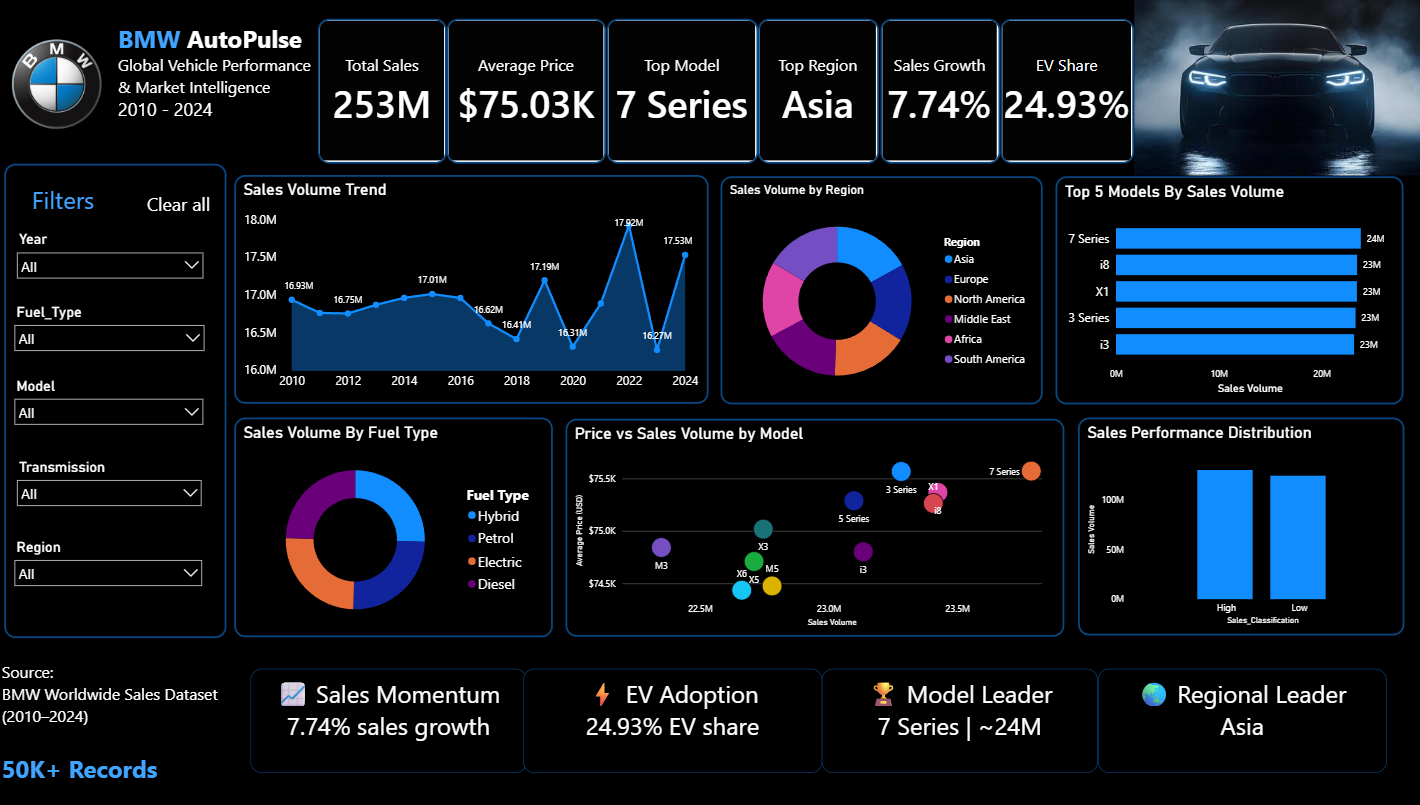

What the dashboard file says about the page in this screenshot:
{"tool":"powerbi","page":{"name":"Page 1","canvas":[1900,1080],"ordinal":0},"visuals":[{"type":"shape","box":[9,219,296.8,633.4],"z":0,"group":"g3"},{"type":"lineChart","title":"Sales Volume Trend","fields":{"Category":["BMW sales data (2010-2024).Year"],"Y":["Sum(BMW sales data (2010-2024).Sales_Volume)"]},"box":[315.7,234.2,633.5,305.5],"z":0},{"type":"donutChart","title":"Sales Volume by Region","fields":{"Category":["BMW sales data (2010-2024).Region"],"Y":["Sum(BMW sales data (2010-2024).Sales_Volume)"]},"box":[965,235,430,305],"z":1000},{"type":"textbox","box":[41.5,240,148.4,69.4],"z":1000,"group":"g3"},{"type":"clusteredBarChart","title":"Top 5 Models By Sales Volume","fields":{"Category":["BMW sales data (2010-2024).Model"],"Y":["Sum(BMW sales data (2010-2024).Sales_Volume)"]},"box":[1412.5,235,465,305],"z":2000},{"type":"group","id":"g1","title":"Group 2","box":[11.6,304.3,273.8,508.3],"z":3000,"group":"g3"},{"type":"donutChart","title":"Sales Volume By Fuel Type","fields":{"Y":["Sum(BMW sales data (2010-2024).Sales_Volume)"],"Category":["BMW sales data (2010-2024).Fuel_Type"]},"box":[315.7,558.1,425.7,293.3],"z":3000},{"type":"scatterChart","title":"Price vs Sales Volume by Model","fields":{"X":["Sum(BMW sales data (2010-2024).Sales_Volume)"],"Y":["Avg(BMW sales data (2010-2024).Price_USD)"],"Category":["BMW sales data (2010-2024).Model"],"Series":["BMW sales data (2010-2024).Model"]},"box":[757.7,560.1,666.1,291.3],"z":4000},{"type":"clusteredColumnChart","title":"Sales Performance Distribution","fields":{"Category":["BMW sales data (2010-2024).Sales_Classification"],"Y":["Sum(BMW sales data (2010-2024).Sales_Volume)"]},"box":[1442.1,558.1,435.9,291.3],"z":5000},{"type":"cardVisual","fields":{"Data":["BMW sales data (2010-2024).Total Sales"]},"box":[427.7,24.4,172.1,193.5],"z":6000,"group":"g2"},{"type":"textbox","box":[0,877.9,315.7,201.7],"z":6000},{"type":"textbox","box":[154.8,24.4,272.9,193.5],"z":7000},{"type":"cardVisual","fields":{"Data":["BMW sales data (2010-2024).Average Price"]},"box":[599.8,24.4,213,193.5],"z":7000,"group":"g2"},{"type":"group","id":"g2","title":"Group 1","box":[427.7,24.4,1089.7,193.5],"z":8000},{"type":"cardVisual","fields":{"Data":["BMW sales data (2010-2024).top model"]},"box":[812.8,24.4,202.8,193.5],"z":8000,"group":"g2"},{"type":"cardVisual","fields":{"Data":["BMW sales data (2010-2024).Top Region"]},"box":[1015.6,24.4,161.8,193.5],"z":9000,"group":"g2"},{"type":"group","id":"g3","title":"Group 3","box":[9,219,296.8,633.4],"z":9000},{"type":"actionButton","box":[164.2,240.8,123.6,63.5],"z":9001,"group":"g3"},{"type":"image","box":[0,0,153.8,219],"z":10000},{"type":"cardVisual","fields":{"Data":["BMW sales data (2010-2024).Sales Growth %"]},"box":[1179.5,24.4,159.8,193.5],"z":10000,"group":"g2"},{"type":"image","box":[1517.5,0,382.9,234.2],"z":11000},{"type":"cardVisual","fields":{"Data":["BMW sales data (2010-2024).EV Share"]},"box":[1339.2,24.4,178.2,193.5],"z":11000,"group":"g2"},{"type":"slicer","fields":{"Values":["BMW sales data (2010-2024).Transmission"]},"box":[15,607.8,267.2,96.8],"z":12000},{"type":"textbox","box":[336.6,894.4,369.1,138.9],"z":12000,"group":"g4"},{"type":"group","id":"g4","title":"Group 4","box":[336.6,894,1518.3,139.3],"z":13000},{"type":"textbox","box":[700.5,894.4,399.9,138.9],"z":13000,"group":"g4"},{"type":"textbox","box":[1100.4,894,369.1,138.9],"z":14000,"group":"g4"},{"type":"textbox","box":[1469.5,894,385.4,138.9],"z":15000,"group":"g4"},{"type":"slicer","fields":{"Values":["BMW sales data (2010-2024).Year"]},"box":[14.9,304.3,268.8,100.2],"z":16000,"group":"g1"},{"type":"slicer","fields":{"Values":["BMW sales data (2010-2024).Fuel_Type"]},"box":[11.6,400.7,273.8,95.2],"z":17000,"group":"g1"},{"type":"slicer","fields":{"Values":["BMW sales data (2010-2024).Model"]},"box":[12.1,499.2,272.2,105.2],"z":18000,"group":"g1"},{"type":"slicer","fields":{"Values":["BMW sales data (2010-2024).Region"]},"box":[12.4,715.4,271,97.2],"z":19000,"group":"g1"}]}

Visuals, with their boxes in screenshot pixels (x1, y1, x2, y2), scaled from the page's 1900x1080 canvas onto the 1420x805 screenshot:
shape: bbox=(7, 163, 229, 635)
"Sales Volume Trend" lineChart: bbox=(236, 175, 709, 402)
"Sales Volume by Region" donutChart: bbox=(721, 175, 1043, 402)
textbox: bbox=(31, 179, 142, 231)
"Top 5 Models By Sales Volume" clusteredBarChart: bbox=(1056, 175, 1403, 402)
"Group 2" group: bbox=(9, 227, 213, 606)
"Sales Volume By Fuel Type" donutChart: bbox=(236, 416, 554, 635)
"Price vs Sales Volume by Model" scatterChart: bbox=(566, 417, 1064, 635)
"Sales Performance Distribution" clusteredColumnChart: bbox=(1078, 416, 1404, 633)
cardVisual - BMW sales data (2010-2024).Total Sales: bbox=(320, 18, 448, 162)
textbox: bbox=(0, 654, 236, 804)
textbox: bbox=(116, 18, 320, 162)
cardVisual - BMW sales data (2010-2024).Average Price: bbox=(448, 18, 607, 162)
"Group 1" group: bbox=(320, 18, 1134, 162)
cardVisual - BMW sales data (2010-2024).top model: bbox=(607, 18, 759, 162)
cardVisual - BMW sales data (2010-2024).Top Region: bbox=(759, 18, 880, 162)
"Group 3" group: bbox=(7, 163, 229, 635)
actionButton: bbox=(123, 179, 215, 227)
image: bbox=(0, 0, 115, 163)
cardVisual - BMW sales data (2010-2024).Sales Growth %: bbox=(882, 18, 1001, 162)
image: bbox=(1134, 0, 1419, 175)
cardVisual - BMW sales data (2010-2024).EV Share: bbox=(1001, 18, 1134, 162)
slicer - BMW sales data (2010-2024).Transmission: bbox=(11, 453, 211, 525)
textbox: bbox=(252, 667, 527, 770)
"Group 4" group: bbox=(252, 666, 1386, 770)
textbox: bbox=(524, 667, 822, 770)
textbox: bbox=(822, 666, 1098, 770)
textbox: bbox=(1098, 666, 1386, 770)
slicer - BMW sales data (2010-2024).Year: bbox=(11, 227, 212, 302)
slicer - BMW sales data (2010-2024).Fuel_Type: bbox=(9, 299, 213, 370)
slicer - BMW sales data (2010-2024).Model: bbox=(9, 372, 212, 451)
slicer - BMW sales data (2010-2024).Region: bbox=(9, 533, 212, 606)
